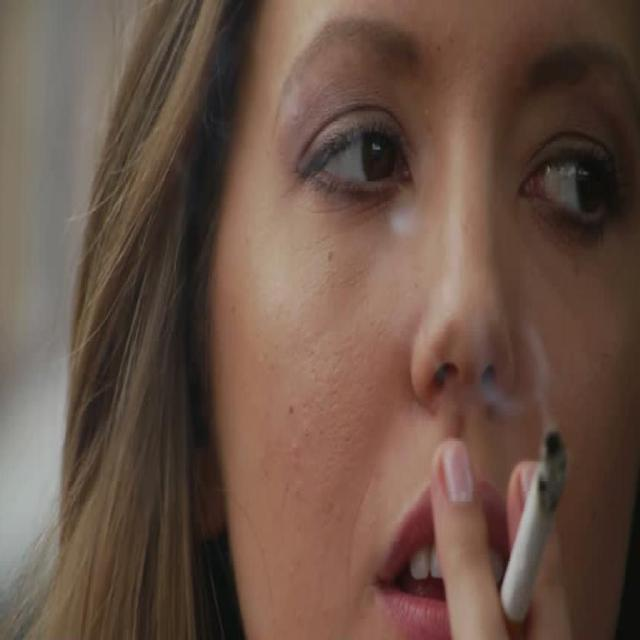smoking: (140, 8, 637, 640)
